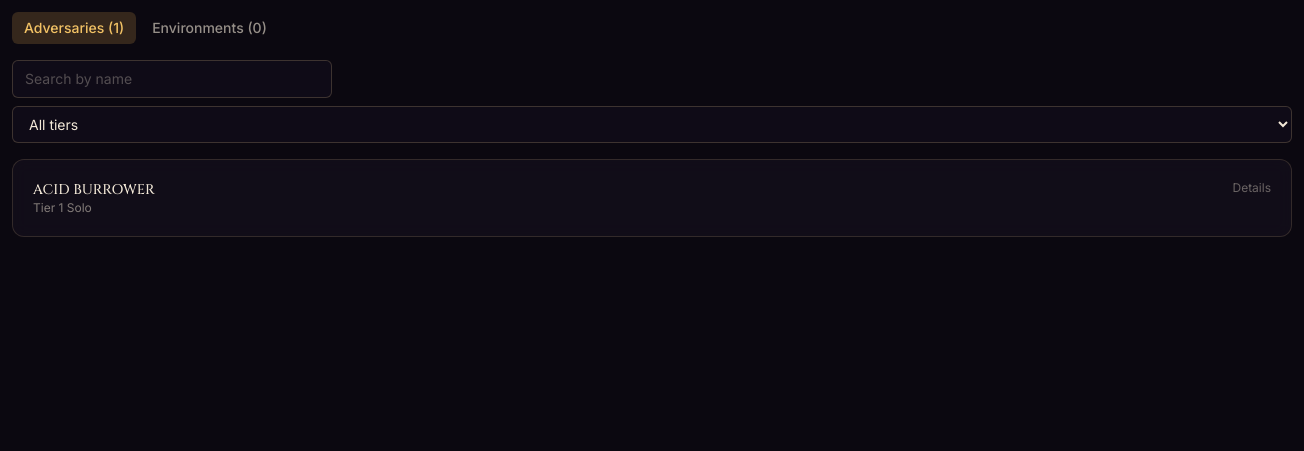
Test: BestiaryPage › expands a card to show the full stat block
expect the heading "ACID BURROWER" is shown: met, box top-left (33, 180), bottom-right (155, 200)
Click the button "ACID BURROWER Tier 1 Solo Details": (94, 190) top-left (33, 180), bottom-right (1271, 216)
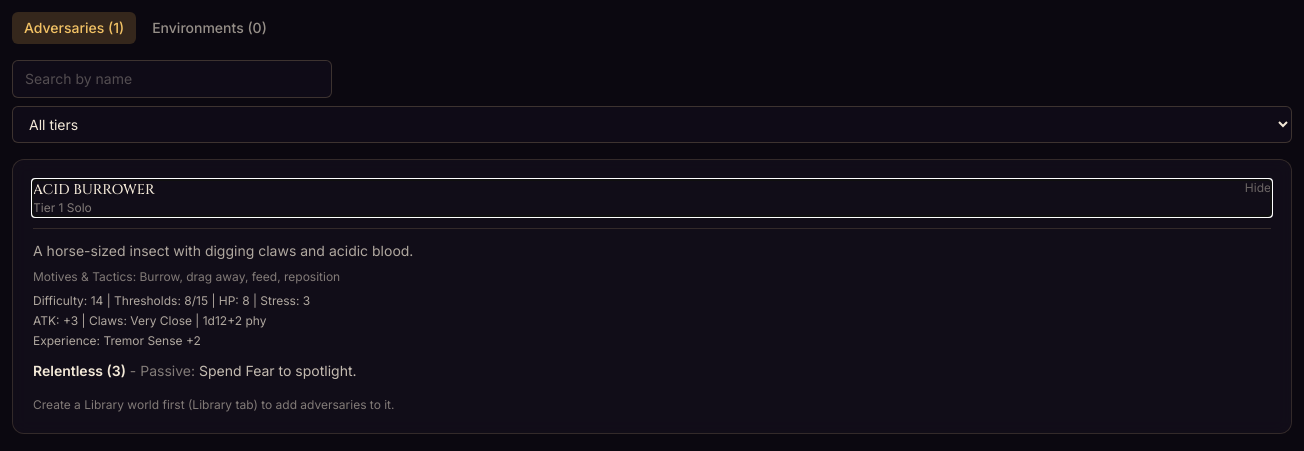
expect the text "Motives & Tactics: Burrow, drag away, feed, reposition" is shown: met, box top-left (33, 269), bottom-right (340, 284)
expect the text "Relentless (3)" is shown: met, box top-left (33, 362), bottom-right (126, 379)
